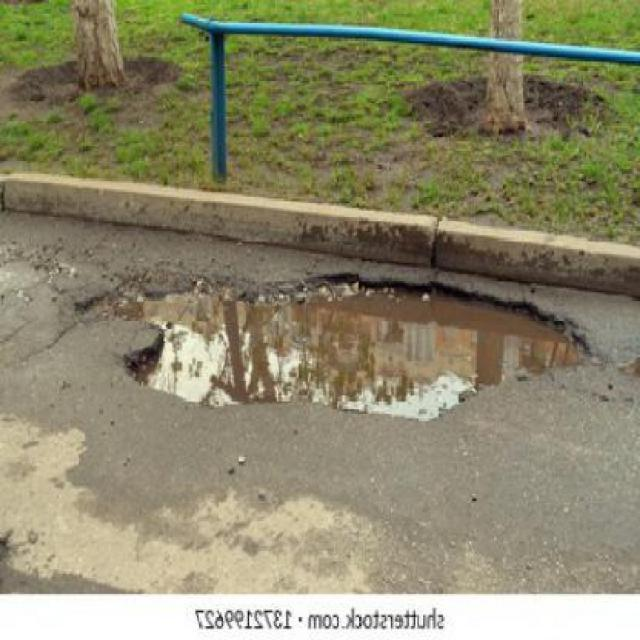pothole: (73, 272, 590, 420)
